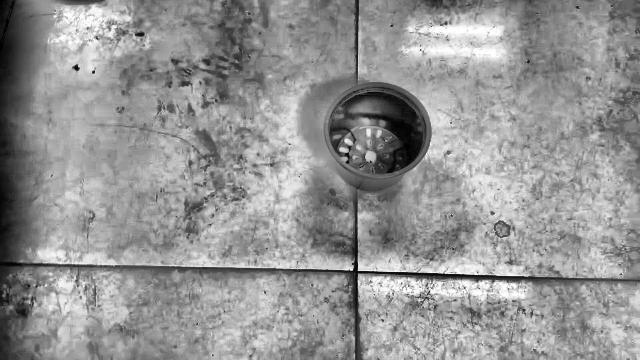pot: (323, 83, 431, 191)
